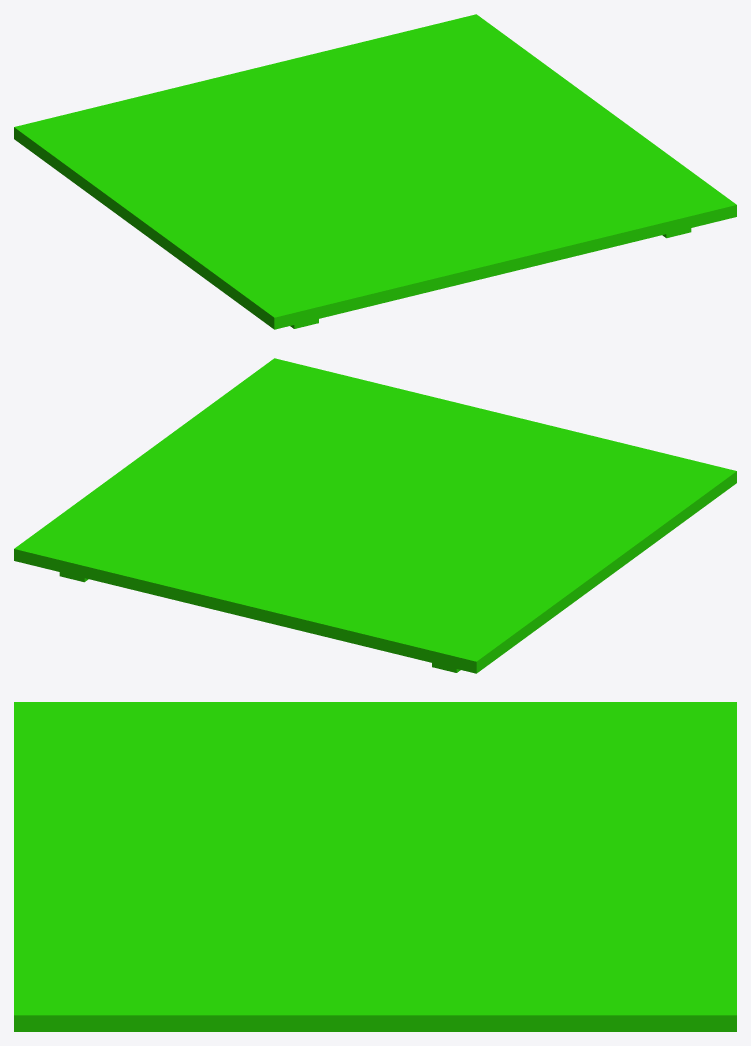
File: Woodbox_04_Lid_Lod0.fbx
The picture shows the model from 3 angles, top to bottom: view 1: azimuth 30°, elevation 25°; view 2: azimuth 150°, elevation 25°; view 3: azimuth 270°, elevation 25°; orthographic projection. The views are drawn at different scales.
Visible parts, largest first — view 1: Woodbox_04_Lid_Lod0; view 2: Woodbox_04_Lid_Lod0; view 3: Woodbox_04_Lid_Lod0.
Part boxes in pixels (x1=…): Woodbox_04_Lid_Lod0: x1=14, y1=14, x2=736, y2=329; Woodbox_04_Lid_Lod0: x1=14, y1=358, x2=736, y2=673; Woodbox_04_Lid_Lod0: x1=14, y1=702, x2=736, y2=1031.
Bounding box in the file's own units: 136 × 6.55 × 133.
